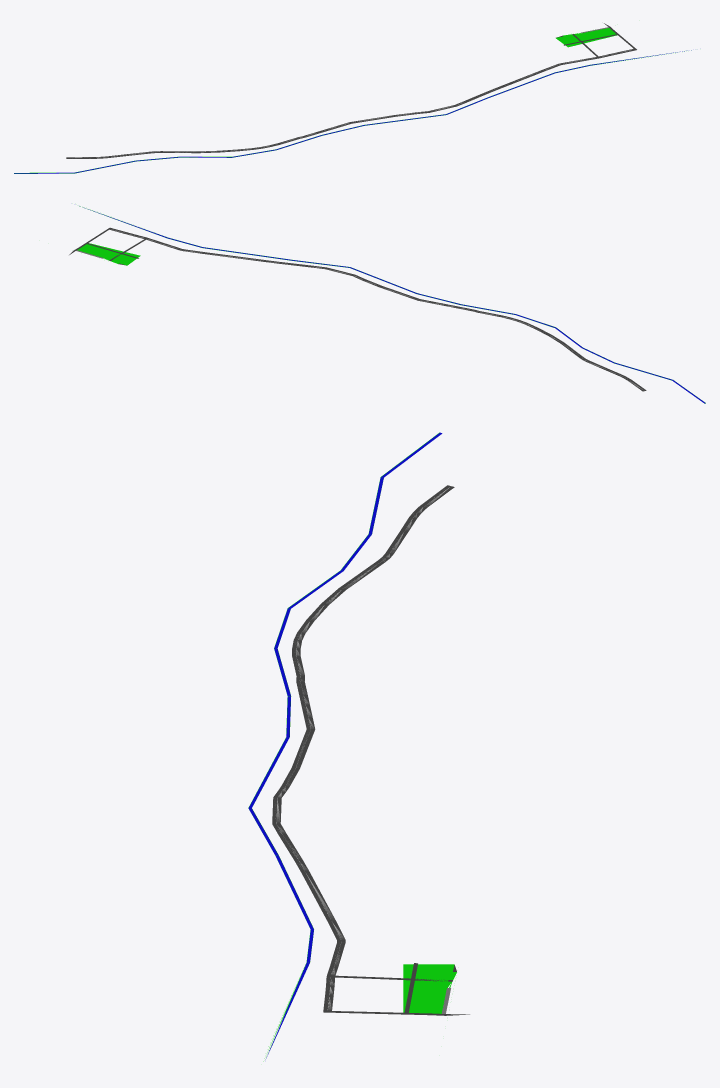
The picture shows the model from 3 angles, top to bottom: view 1: azimuth 30°, elevation 25°; view 2: azimuth 150°, elevation 25°; view 3: azimuth 270°, elevation 25°; orthographic projection. The views are drawn at different scales.
Size of the model in its own units: 1250 by 1 by 184.
